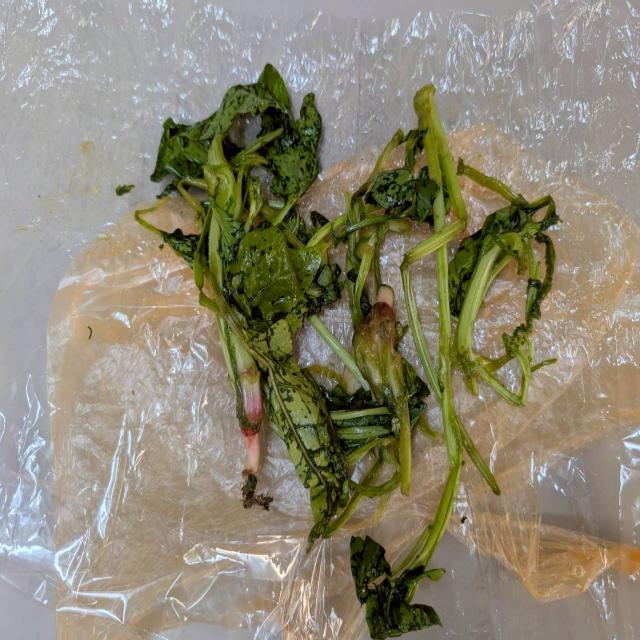rotten spinach: (93, 32, 589, 630), (122, 50, 374, 547), (343, 78, 558, 574)
